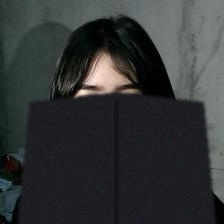Cadar_Niqab: (17, 9, 215, 224)
